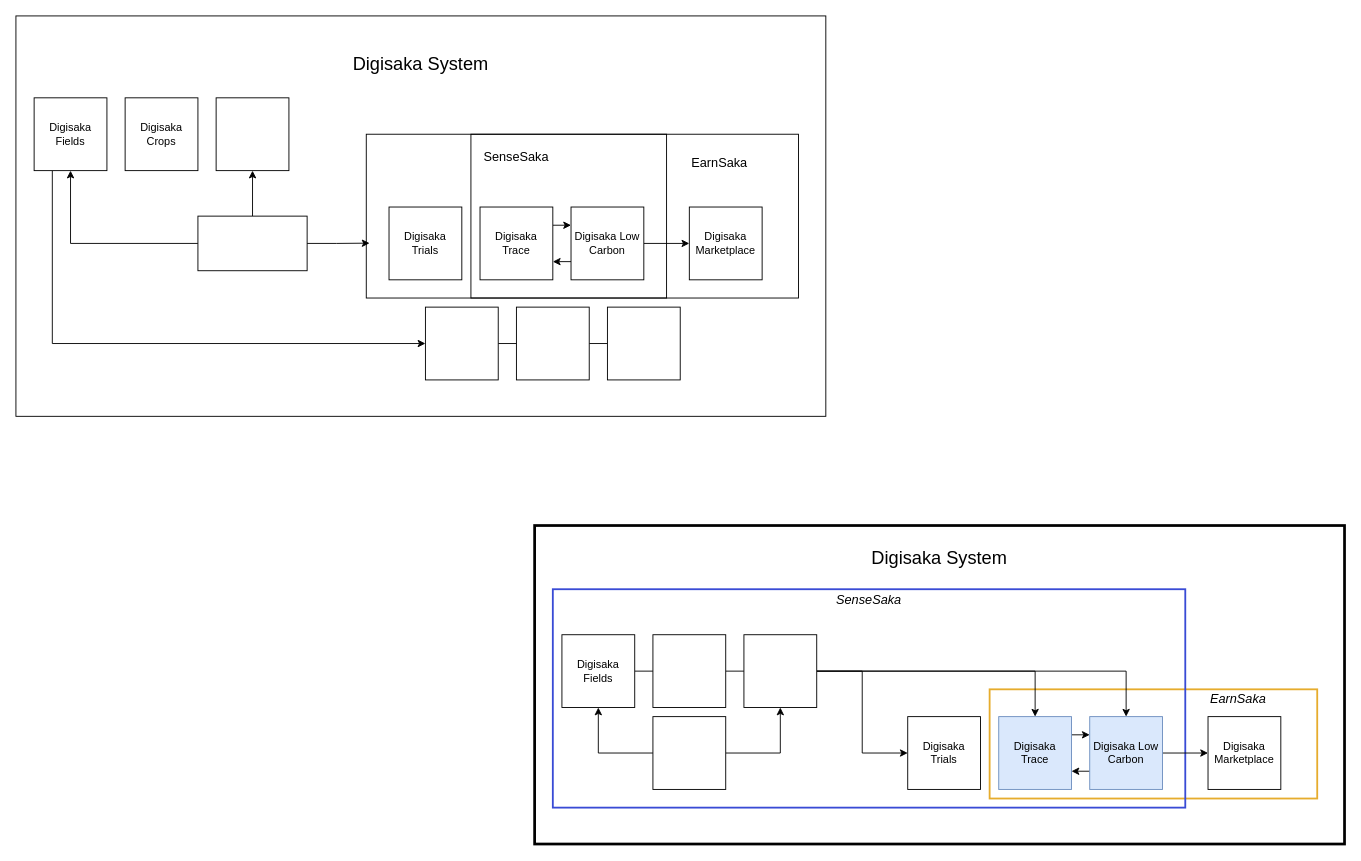
Some shapes in this 1361 by 861 pixel diagram are drawn without their labels. The centre of each missing label's shape, as x and y in pixels:
Biyahe Ni Leads: [552,343]
DigiGulay: [689,671]
Digisaka Plantations: [252,134]
Jackpot All Stars: [643,343]
Rice Derby: [461,343]
Sipat Plantation: [780,671]
Tanod System: [252,243]
Tanod Tractor: [689,752]
